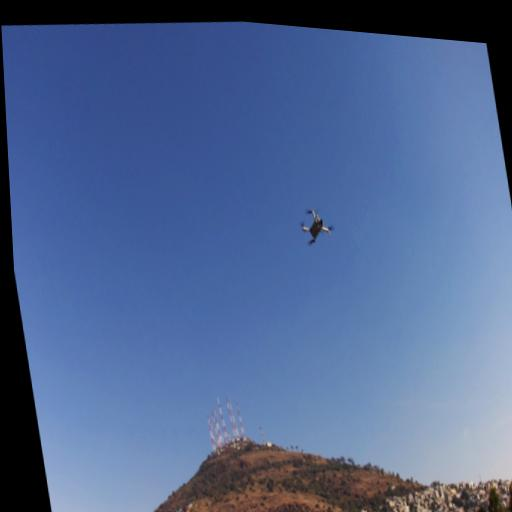drones: (294, 201, 339, 254)
